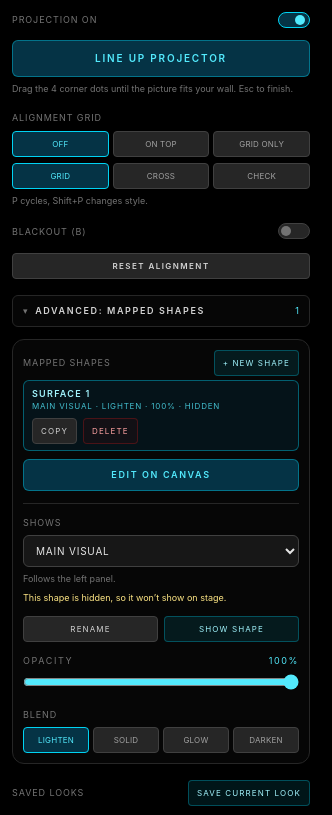
Test: SectionOutput › shows the hidden-surface message and toggles back cleanly
The width and height of the screenshot is (332, 815).
Click the button "SHOW SHAPE".
click(232, 629)  # box [164,616,299,642]
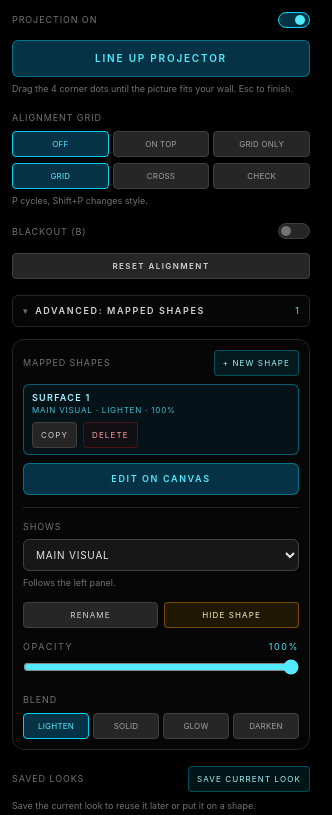
Result: the text "This shape is hidden, so it won’t show on stage." is gone
